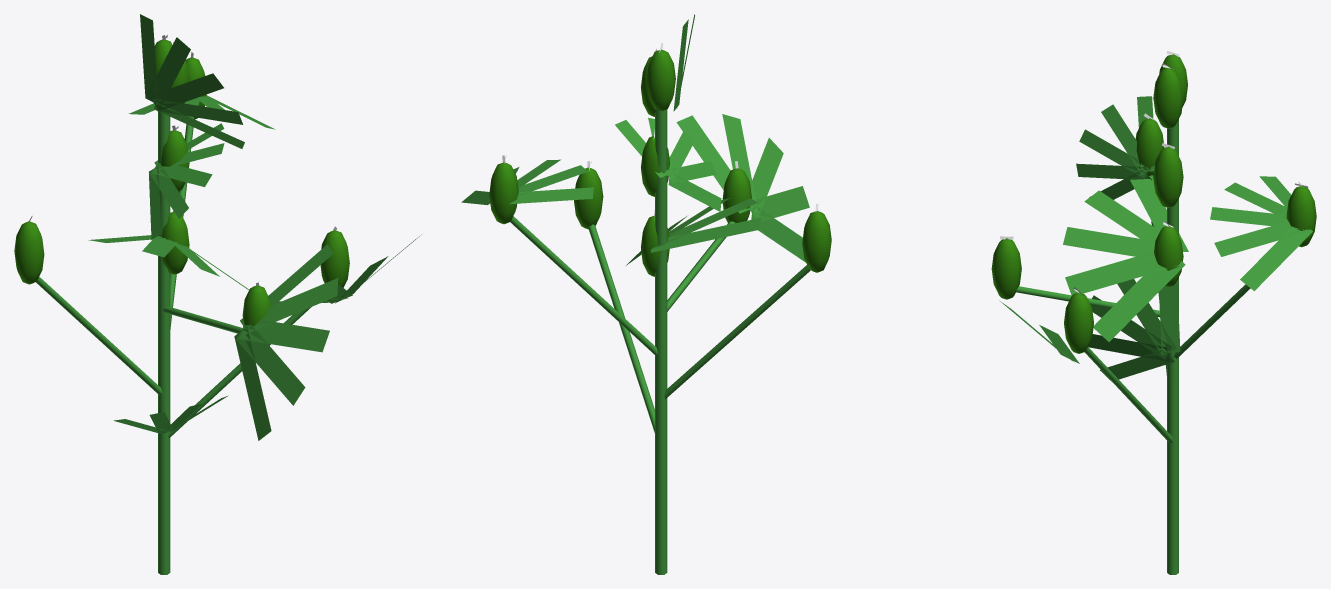
Rendered from plant-stage--flower.glb.
3 renders of one model, left to right at view 1: azimuth 30°, elevation 25°; view 2: azimuth 150°, elevation 25°; view 3: azimuth 270°, elevation 25°, orthographic. The views are drawn at different scales.
Parts seen in each view (by area): view 1: plant_leaves, plant_stem, plant_buds; view 2: plant_leaves, plant_stem, plant_buds; view 3: plant_leaves, plant_buds, plant_stem.
Part boxes in pixels (x1=…): plant_leaves: x1=88, y1=14, x2=421, y2=440; plant_stem: x1=36, y1=111, x2=311, y2=574; plant_buds: x1=14, y1=39, x2=349, y2=326; plant_leaves: x1=461, y1=14, x2=809, y2=265; plant_stem: x1=510, y1=109, x2=810, y2=574; plant_buds: x1=489, y1=49, x2=831, y2=276; plant_leaves: x1=999, y1=96, x2=1312, y2=381; plant_buds: x1=991, y1=54, x2=1316, y2=353; plant_stem: x1=1016, y1=119, x2=1250, y2=574.
Size of the model in its own units: 0.5491 by 0.7988 by 0.5571.
